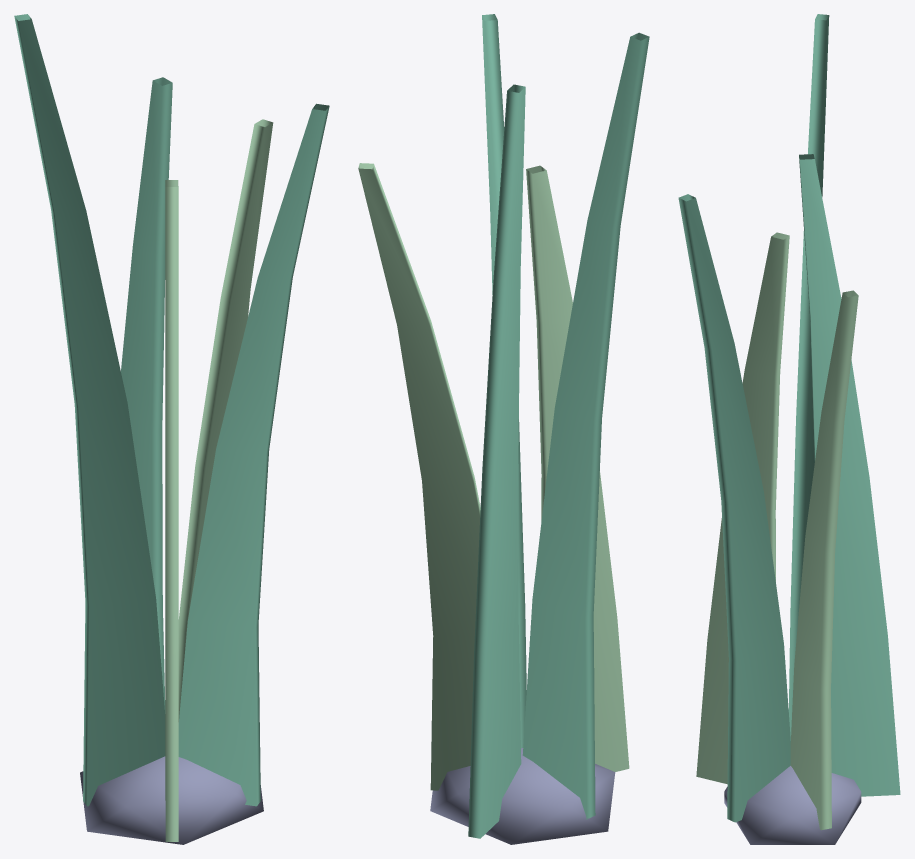
The model's file is kelp_1.glb.
The picture shows the model from 3 angles, left to right: view 1: azimuth 30°, elevation 25°; view 2: azimuth 150°, elevation 25°; view 3: azimuth 270°, elevation 25°; orthographic projection. The views are drawn at different scales.
Visible parts, largest first — view 1: KelpPass35_1Mesh; view 2: KelpPass35_1Mesh; view 3: KelpPass35_1Mesh.
Part boxes in pixels (box(x1,y1,x2,y2)): KelpPass35_1Mesh: box(14, 14, 329, 844); KelpPass35_1Mesh: box(358, 14, 649, 844); KelpPass35_1Mesh: box(678, 14, 900, 844).
Bounding box in the file's own units: 1.2 × 3.54 × 0.9375.
